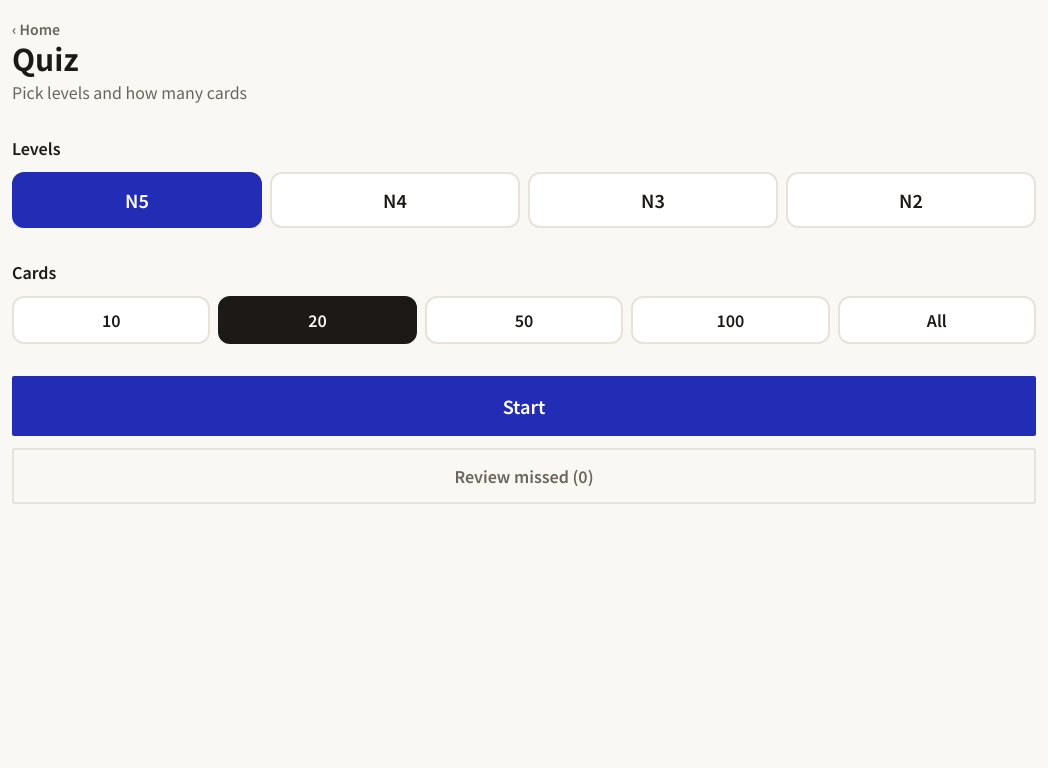
Test: QuizSetup › shows an error when word lists fail to load
Click the button "Start". click: (524, 406)
box: [12,376,1036,436]
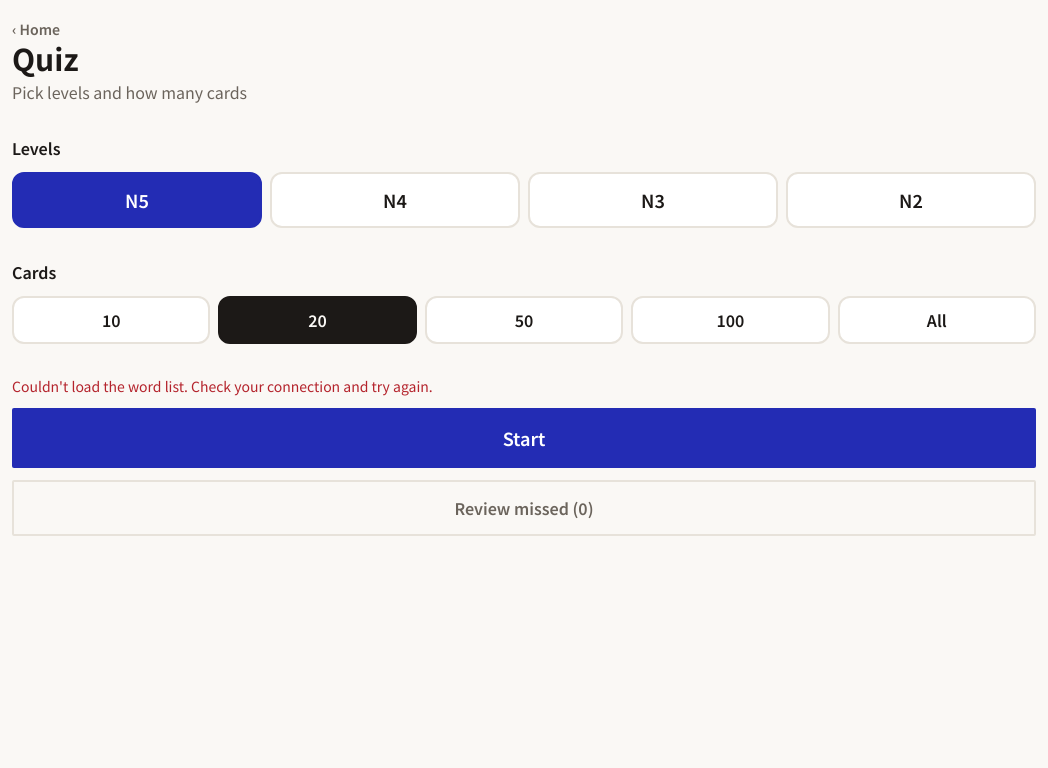
Now the message shows "Couldn't load", box [12,376,433,396]
